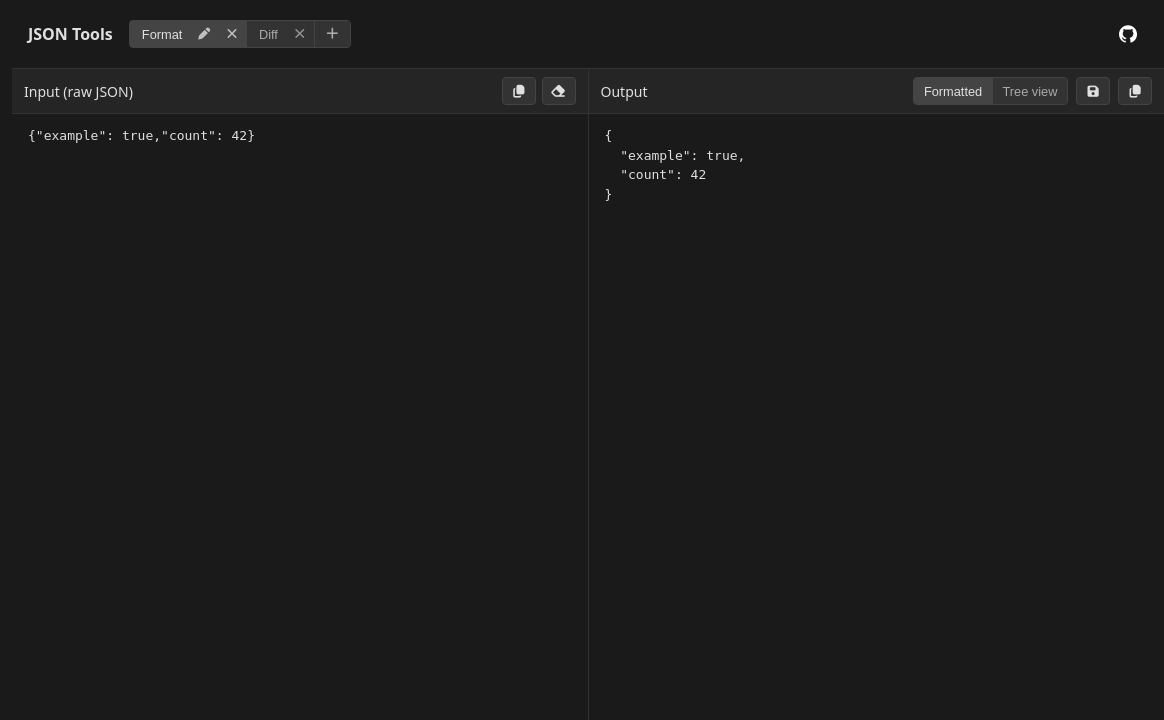
Test: App › can rename a Format tab via the edit button
The image size is (1164, 720).
Click the button named "rename format".
click(204, 34)  # box [190,24,218,44]
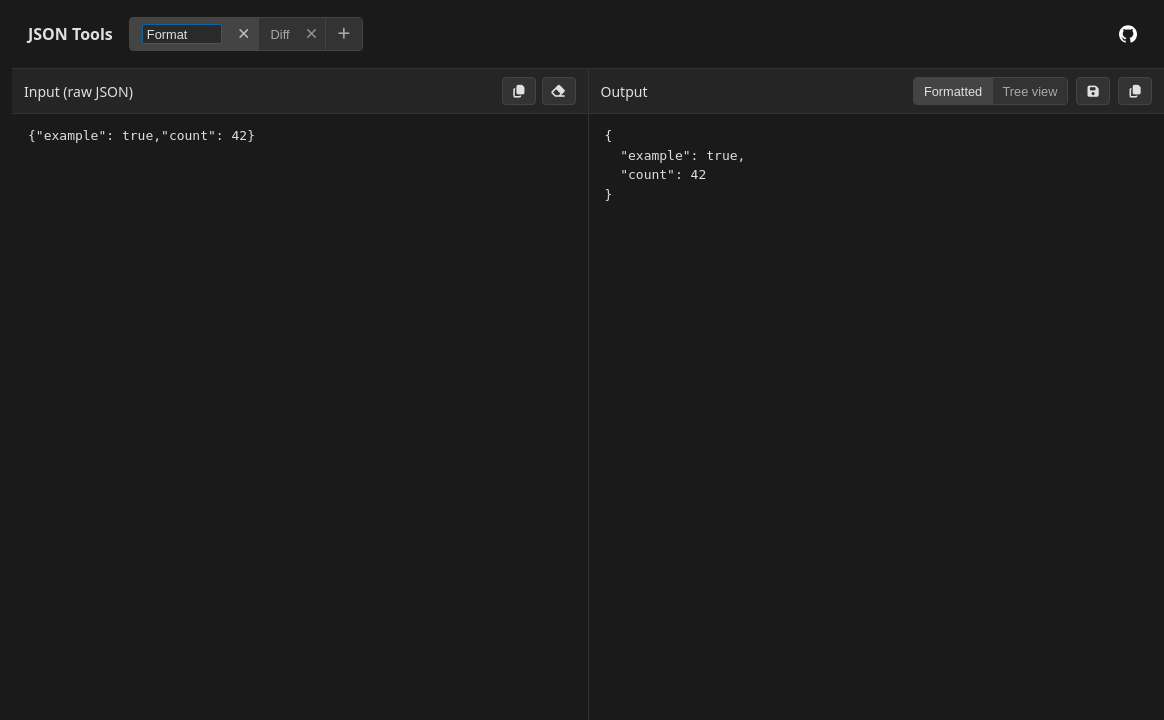
Replace the text in the field named "rename tab" with "My Config" at x=182, y=34, box [142,24,222,44]
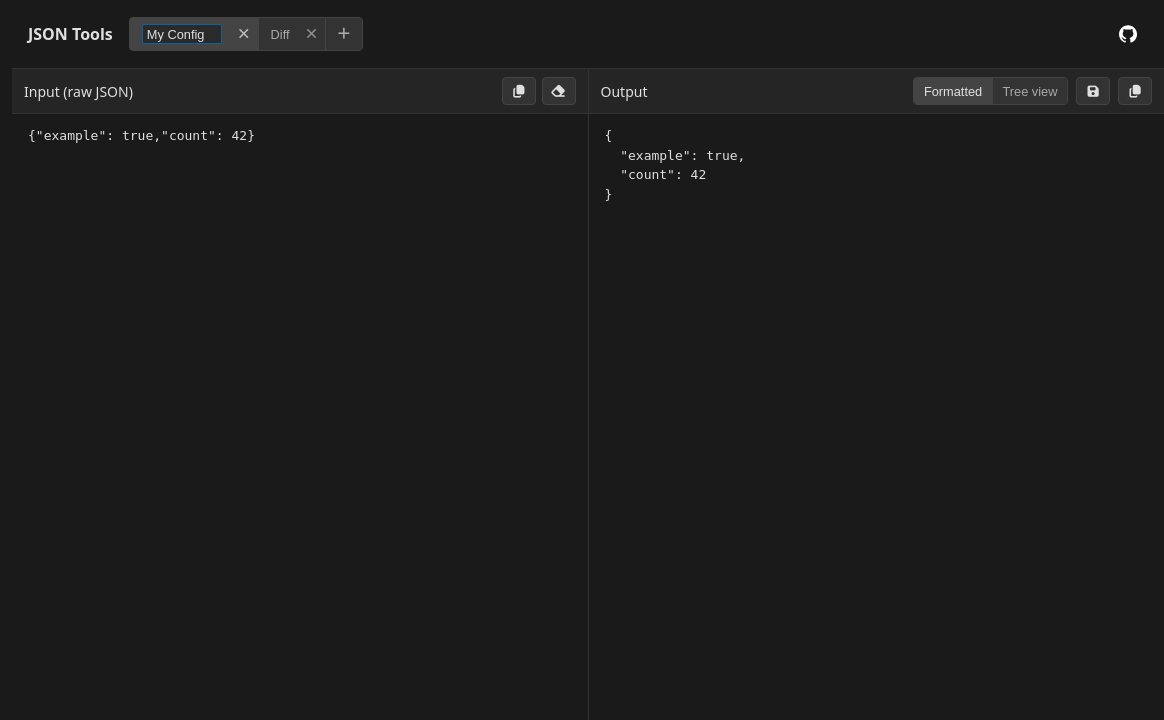
Press Enter in the field named "rename tab", box [142,24,222,44]
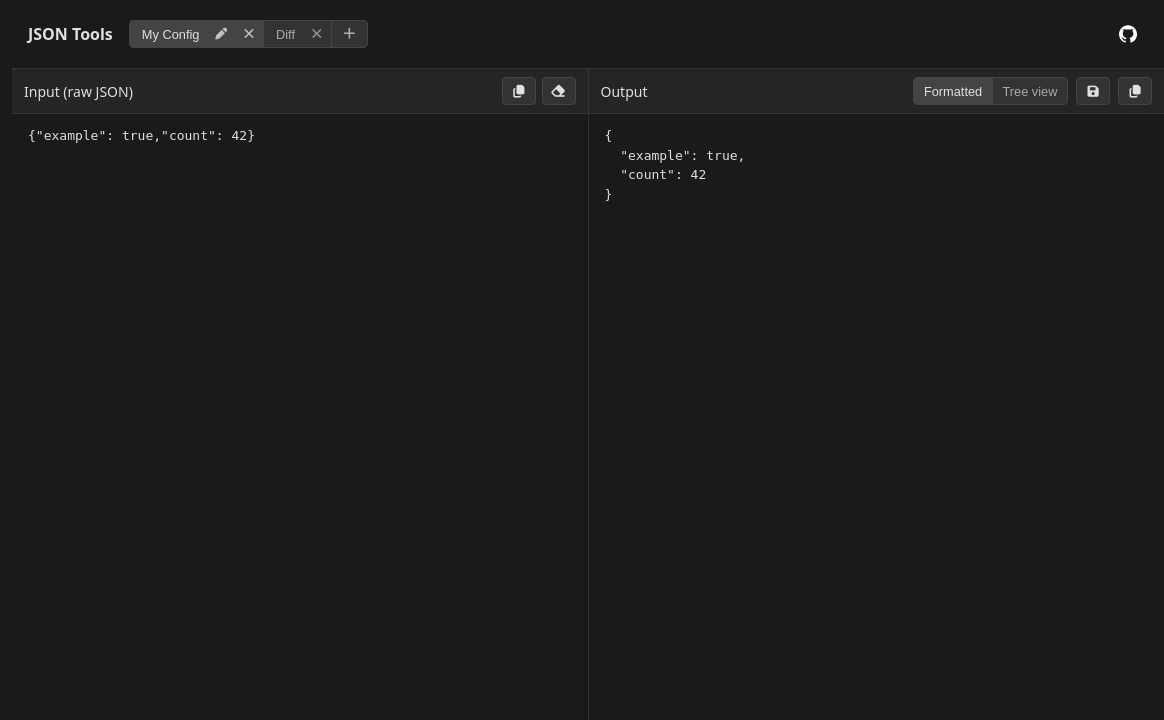
Check: the tab "My Config" is shown, box [130,21,207,47]
